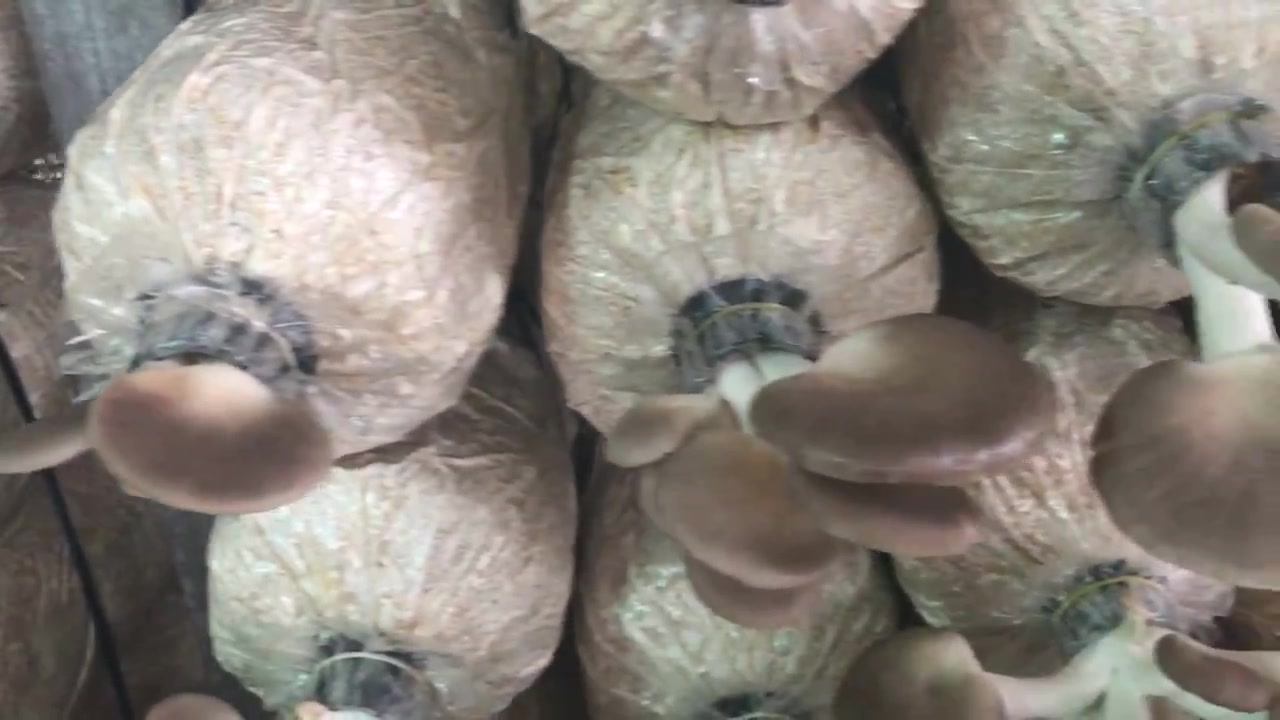nam: (598, 284, 1053, 595), (1086, 98, 1280, 584), (5, 292, 338, 517), (832, 592, 1280, 720)
